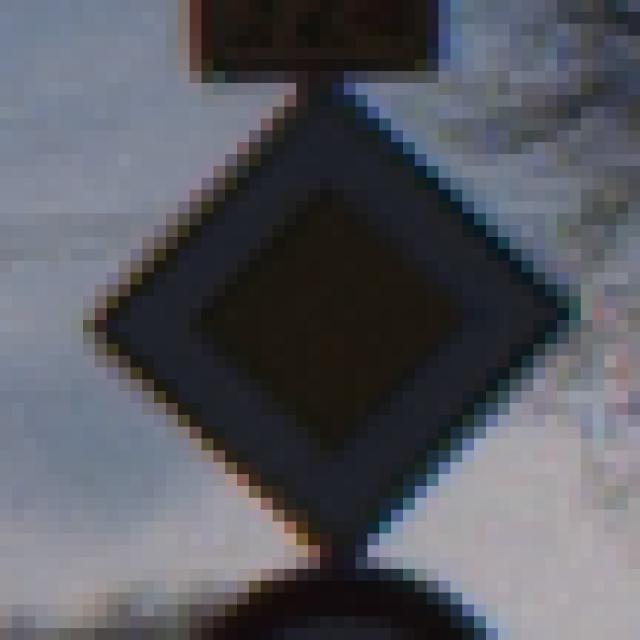Main Road: (60, 60, 582, 582)
